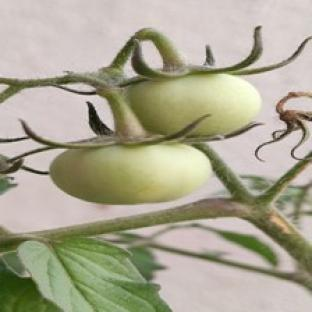Tomato: (51, 144, 211, 204), (126, 74, 261, 136)
